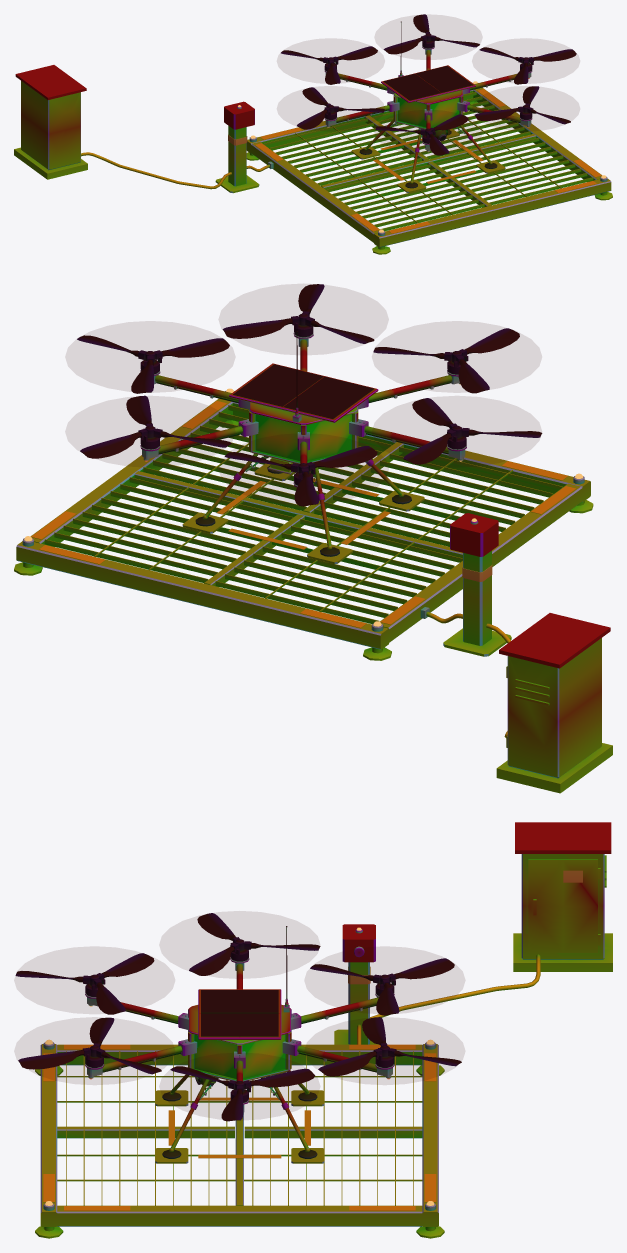
Rendered from home-drone-v1.glb.
3 renders of one model, top to bottom at view 1: azimuth 30°, elevation 25°; view 2: azimuth 150°, elevation 25°; view 3: azimuth 270°, elevation 25°, orthographic. The views are drawn at different scales.
Parts seen in each view (by area): view 1: pad_frame, drone_frame, pad_signal, drone_solar, drone_foil, drone_black, rotor_3_black, rotor_4_black, rotor_1_black, rotor_5_black, rotor_6_black, rotor_2_black; view 2: pad_frame, drone_frame, pad_signal, drone_solar, drone_foil, drone_black, rotor_3_black, rotor_5_black, rotor_4_black, rotor_6_black, rotor_1_black, rotor_2_black; view 3: pad_frame, drone_frame, pad_signal, drone_solar, drone_foil, drone_black, rotor_3_black, rotor_1_black, rotor_5_black, rotor_4_black, rotor_2_black, rotor_6_black.
Boxes of the visible parts, left/top/right/bottom form: pad_frame: left=14, top=65, right=612, bottom=254; drone_frame: left=324, top=45, right=532, bottom=183; pad_signal: left=81, top=89, right=601, bottom=233; drone_solar: left=384, top=66, right=472, bottom=100; drone_foil: left=398, top=97, right=458, bottom=127; drone_black: left=324, top=21, right=532, bottom=188; rotor_3_black: left=375, top=114, right=468, bottom=155; rotor_4_black: left=297, top=87, right=384, bottom=129; rotor_1_black: left=479, top=47, right=576, bottom=84; rotor_5_black: left=281, top=46, right=377, bottom=84; rotor_6_black: left=383, top=14, right=479, bottom=54; rotor_2_black: left=475, top=86, right=570, bottom=124; pad_frame: left=14, top=391, right=612, bottom=793; drone_frame: left=140, top=333, right=466, bottom=549; pad_signal: left=31, top=401, right=575, bottom=737; drone_solar: left=233, top=364, right=373, bottom=418; drone_foil: left=255, top=414, right=351, bottom=471; drone_black: left=140, top=324, right=466, bottom=556; rotor_3_black: left=373, top=328, right=519, bottom=393; rotor_5_black: left=224, top=446, right=377, bottom=506; rotor_4_black: left=403, top=398, right=542, bottom=464; rotor_6_black: left=80, top=395, right=231, bottom=458; rotor_1_black: left=77, top=335, right=229, bottom=393; rotor_2_black: left=222, top=284, right=374, bottom=343; pad_frame: left=35, top=822, right=612, bottom=1238; drone_frame: left=85, top=958, right=394, bottom=1151; pad_signal: left=43, top=870, right=582, bottom=1210; drone_solar: left=201, top=990, right=278, bottom=1036; drone_foil: left=194, top=1034, right=285, bottom=1078; drone_black: left=85, top=926, right=394, bottom=1158; rotor_3_black: left=15, top=953, right=154, bottom=1014; rotor_1_black: left=170, top=1066, right=314, bottom=1121; rotor_5_black: left=310, top=958, right=454, bottom=1015; rotor_4_black: left=189, top=913, right=320, bottom=975; rotor_2_black: left=18, top=1017, right=161, bottom=1074; rotor_6_black: left=318, top=1017, right=461, bottom=1076.
Bounding box in the file's own units: 4.49 × 1.45 × 3.61.
